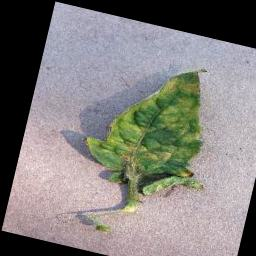Leaf_Mold: (76, 50, 219, 204)
